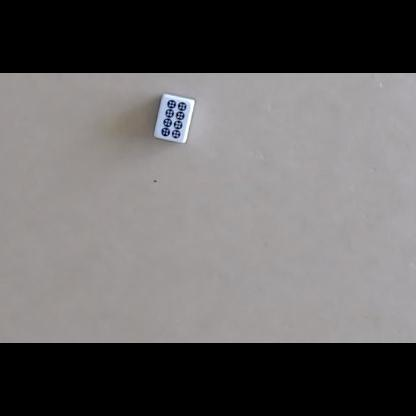8p: (161, 99, 187, 139)
